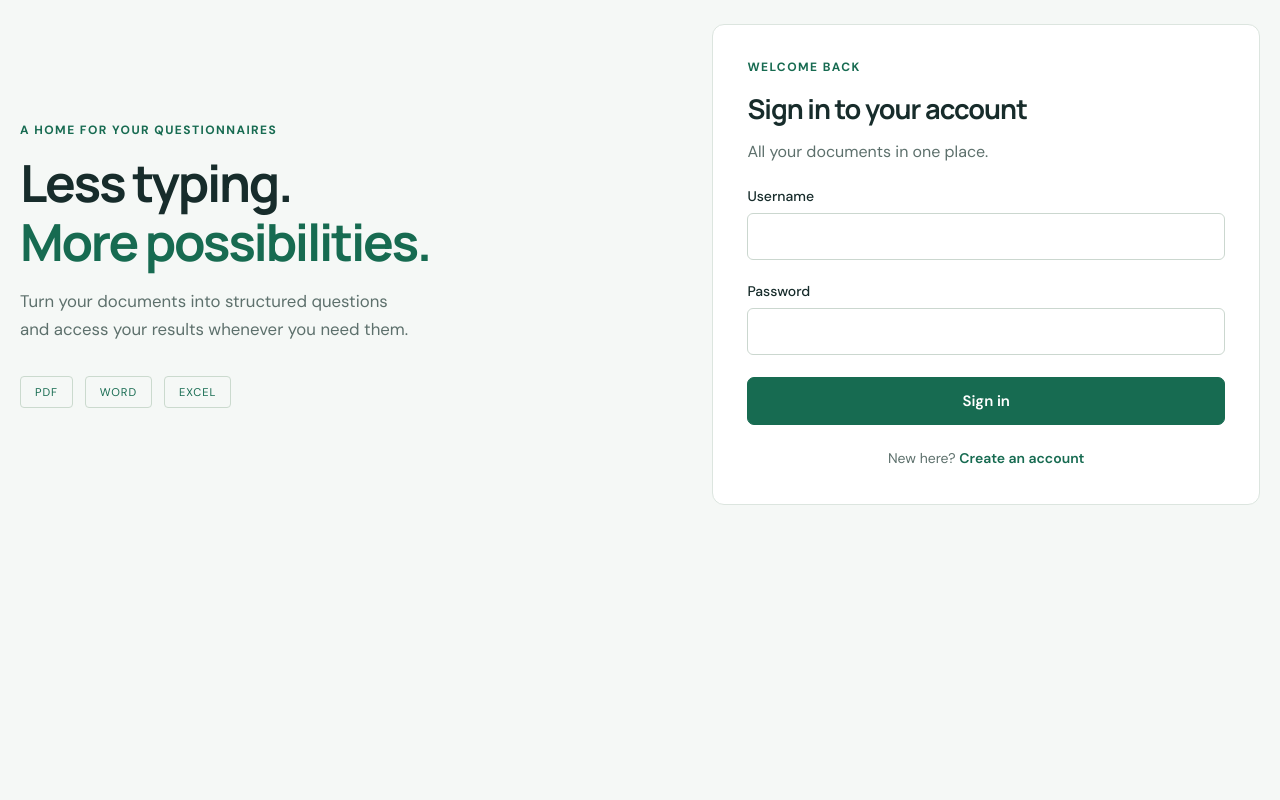
Scenario: questionnaires › shows authentication failure and enables a retry
Type "ana" into the field labelled "Username". click: (986, 237)
box: [747,213,1225,260]
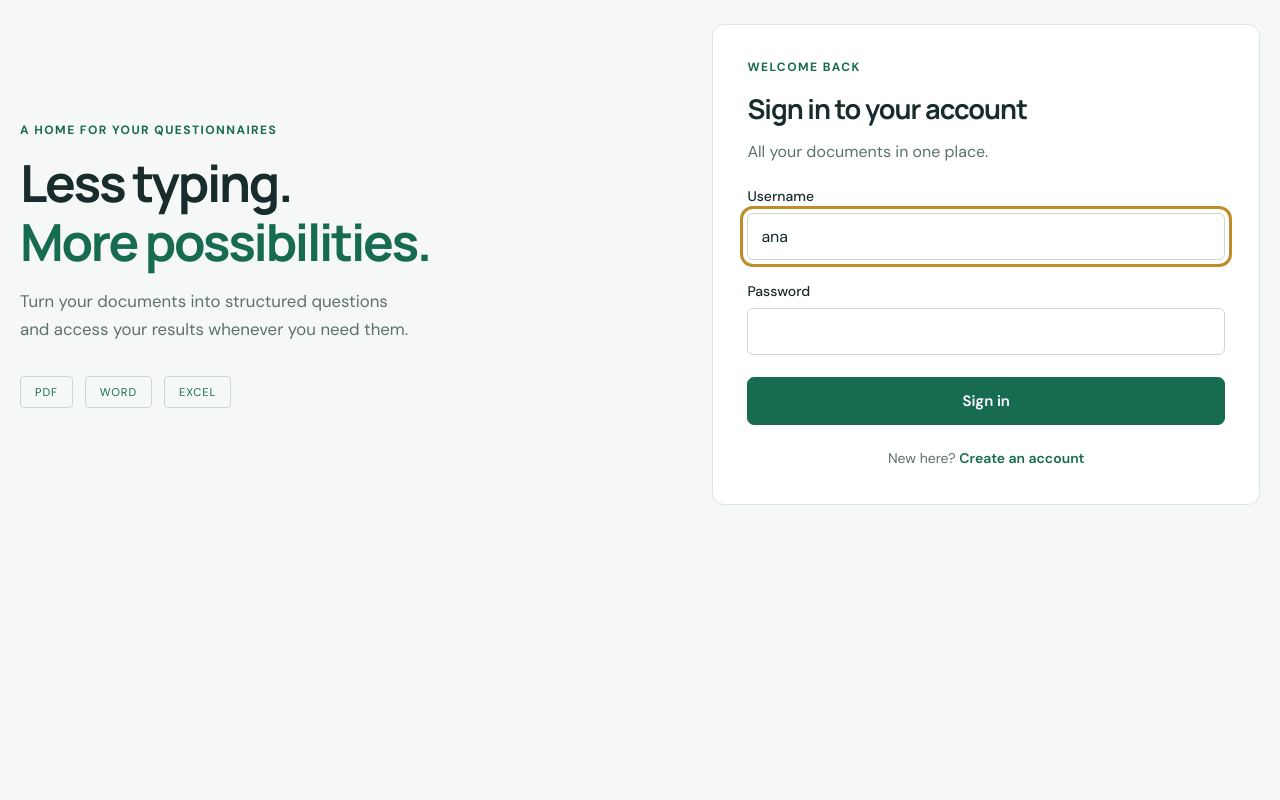
Type "wrong" into the password field labelled "Password". click: (986, 332)
box: [747,308,1225,355]
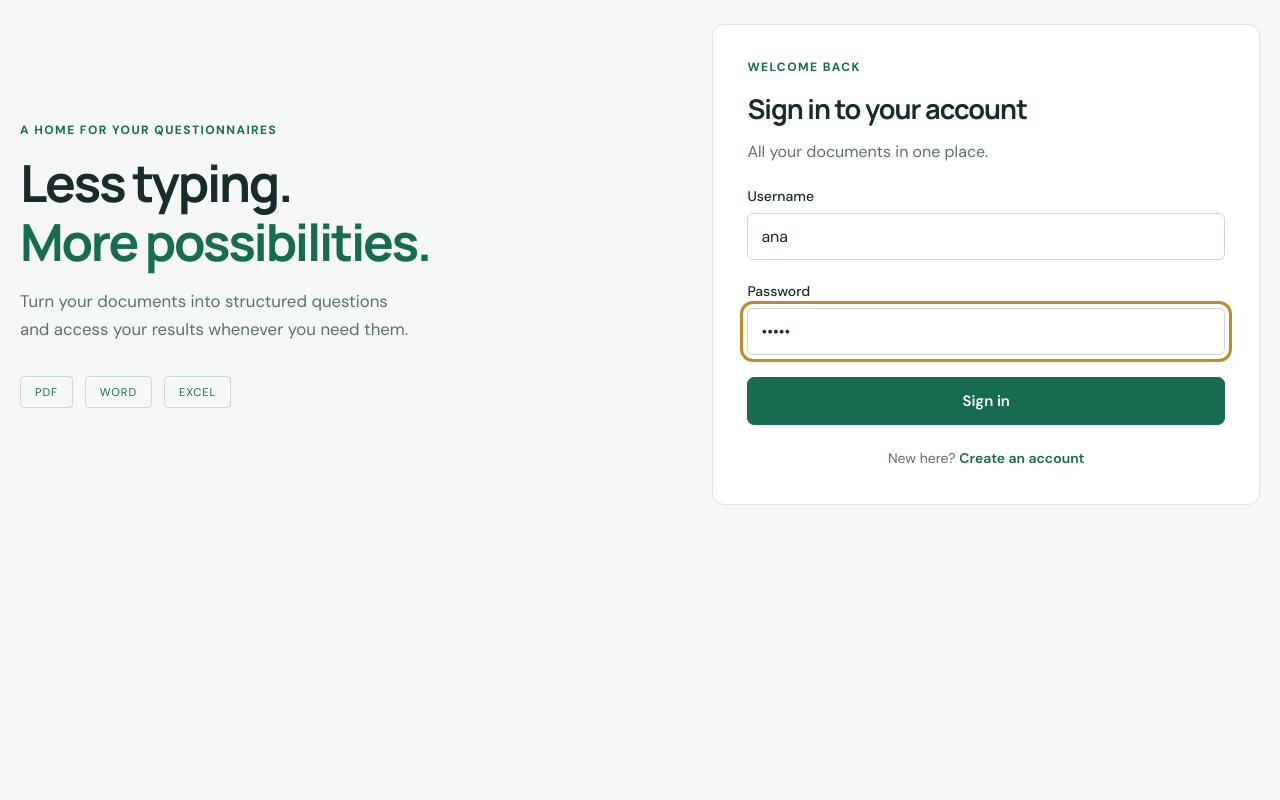
Click the button "Sign in". click: (986, 401)
box: [747,377,1225,425]
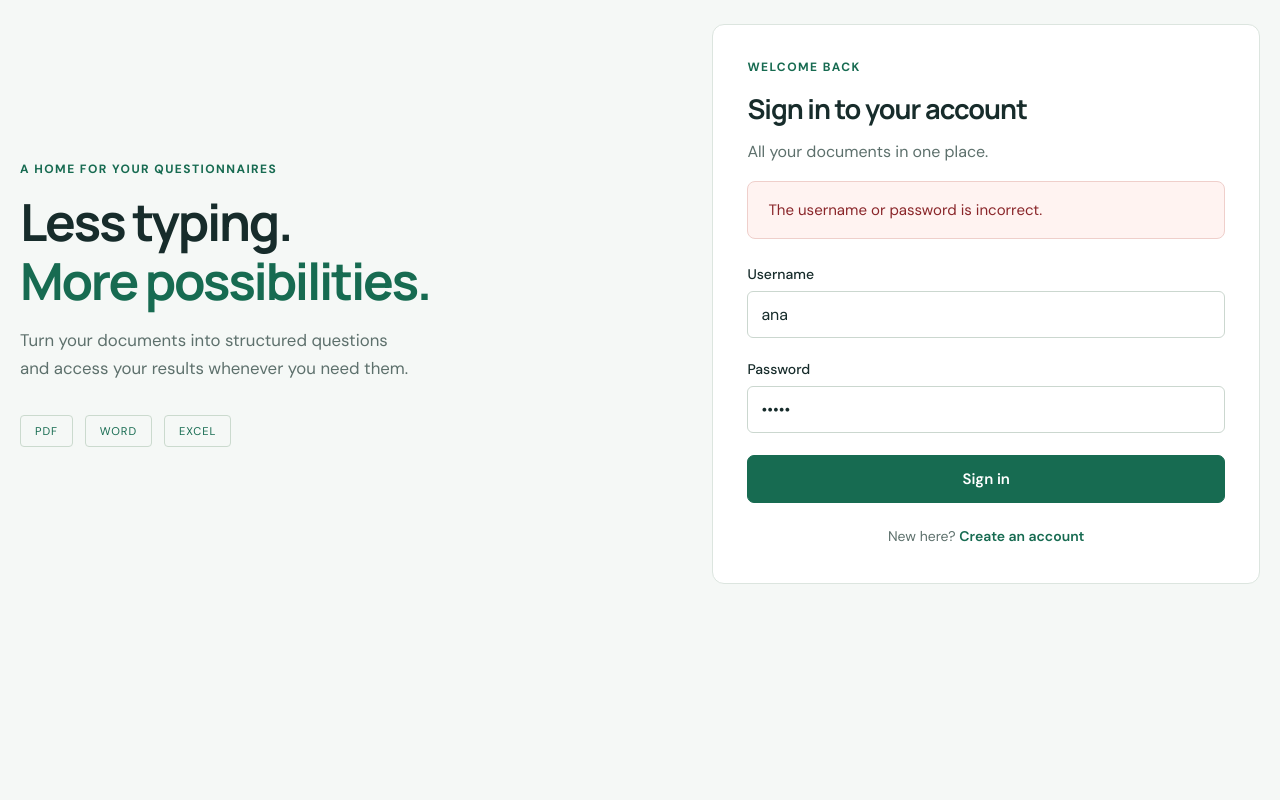
Expected: the button "Sign in" is enabled, [747,456,1225,504]
Expected: the message shows "is incorrect", [768,200,1042,220]
